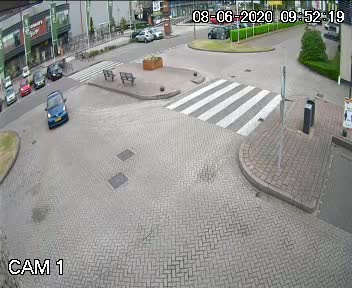car: (41, 91, 74, 136), (319, 18, 345, 40), (206, 23, 228, 41), (44, 63, 65, 80), (131, 27, 151, 43), (16, 78, 35, 94), (33, 68, 46, 90), (2, 88, 17, 106), (148, 26, 164, 41), (15, 63, 31, 77), (2, 72, 12, 87)
